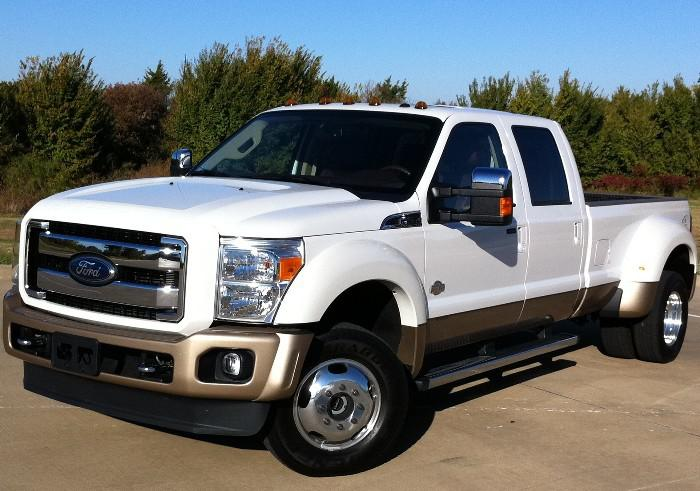Car: (2, 92, 700, 484)
